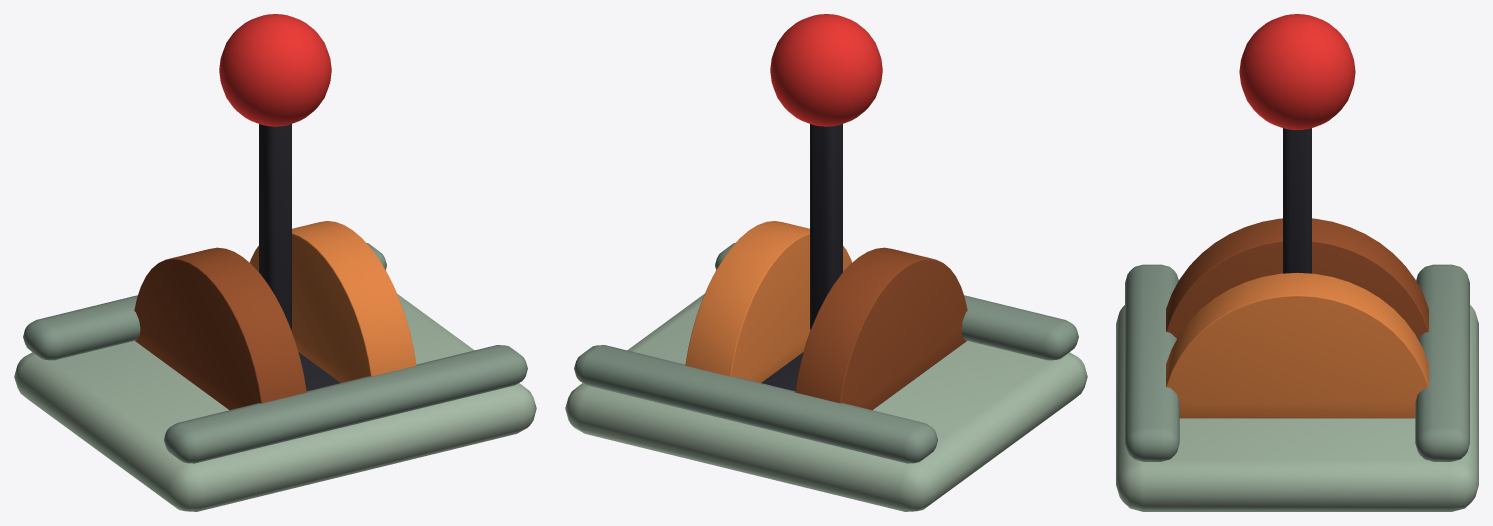
Rendered from OreLever.fbx.
3 views of the same model, side by side, from view 1: azimuth 30°, elevation 25°; view 2: azimuth 150°, elevation 25°; view 3: azimuth 270°, elevation 25° (orthographic). The views are drawn at different scales.
Parts seen in each view (by area): view 1: Base, CheekDark, Rim, CheekLight, Knob, Arm, Rim.001, Slot; view 2: Base, CheekDark, Rim.001, CheekLight, Knob, Arm, Rim, Slot; view 3: CheekLight, Base, CheekDark, Knob, Rim, Rim.001, Arm.
Part boxes in pixels (x1,y1,x2,y2): Base: (14, 293, 536, 511); CheekDark: (134, 247, 306, 410); Rim: (164, 345, 527, 463); CheekLight: (249, 221, 416, 382); Knob: (219, 14, 331, 126); Arm: (259, 124, 291, 329); Rim.001: (23, 243, 386, 360); Slot: (298, 352, 340, 391); Base: (565, 293, 1087, 511); CheekDark: (795, 247, 967, 410); Rim.001: (574, 345, 937, 463); CheekLight: (685, 221, 852, 382); Knob: (770, 14, 882, 126); Arm: (810, 124, 842, 329); Rim: (715, 243, 1078, 360); Slot: (761, 352, 803, 391); CheekLight: (1166, 272, 1428, 418); Base: (1116, 305, 1478, 511); CheekDark: (1166, 218, 1428, 338); Knob: (1239, 14, 1355, 129); Rim: (1125, 264, 1179, 461); Rim.001: (1415, 264, 1469, 461); Arm: (1283, 128, 1311, 273).
Size of the model in its own units: 2.4 by 2.49 by 2.
